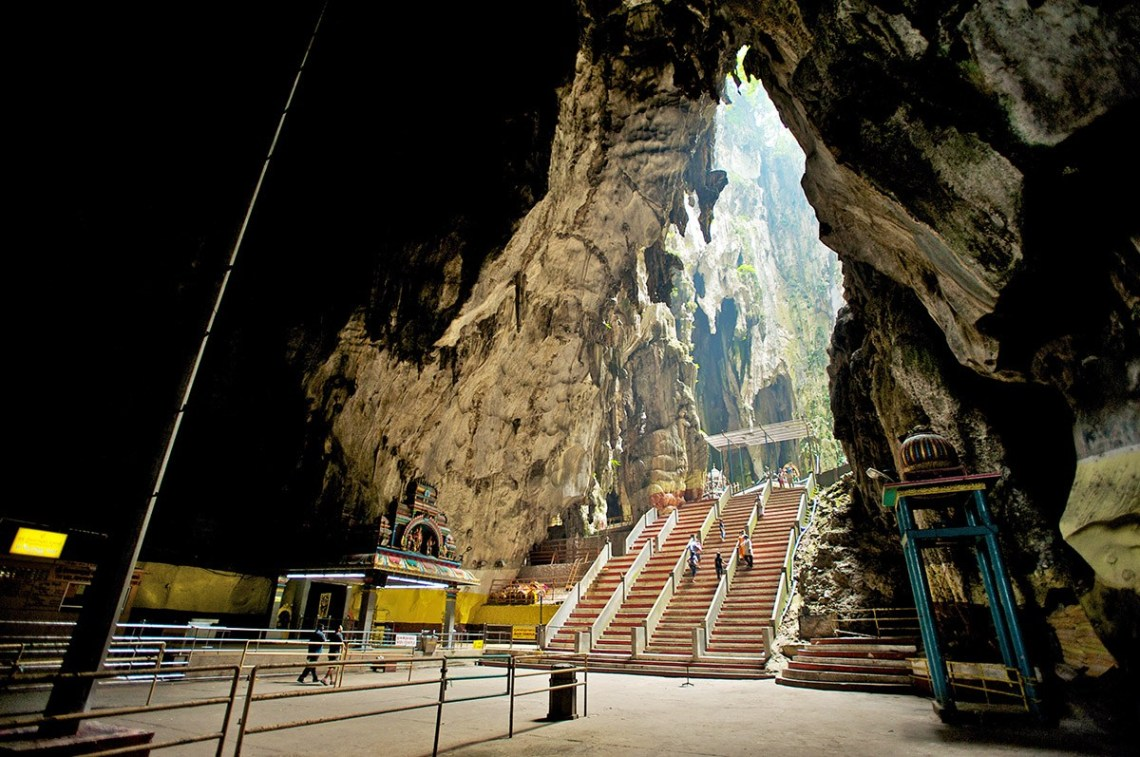Hindu Temple: (865, 389, 1040, 696)
